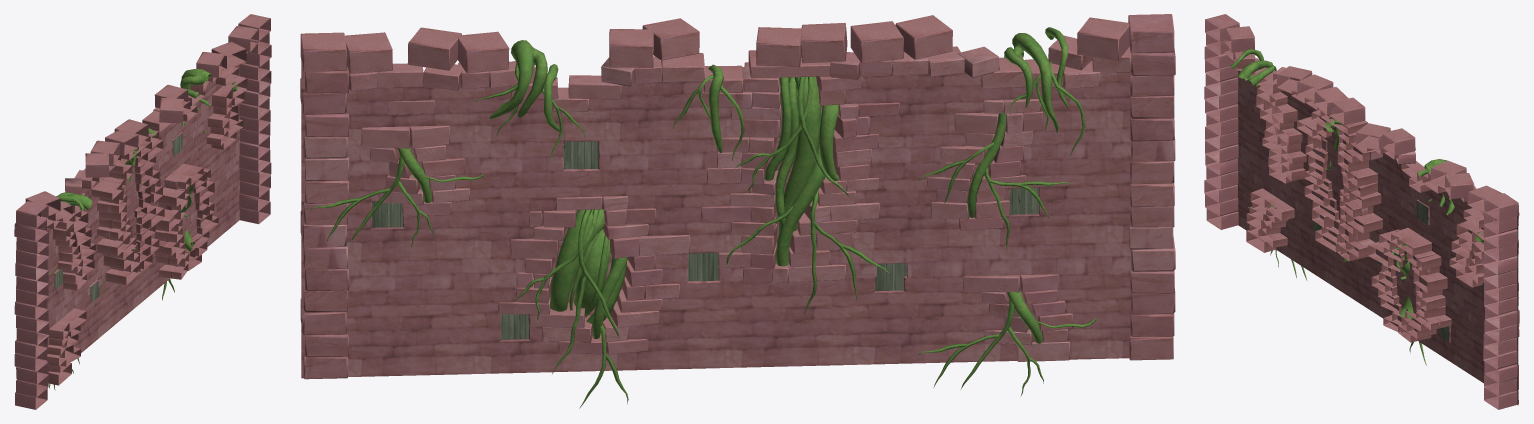
Rendered from SM_ENV_KNFRST_Wall_Bb.FBX.
The picture shows the model from 3 angles, left to right: view 1: azimuth 30°, elevation 25°; view 2: azimuth 150°, elevation 25°; view 3: azimuth 270°, elevation 25°; orthographic projection. The views are drawn at different scales.
Visible parts, largest first — view 1: SM_ENV_KNFRST_Wall_Bb; view 2: SM_ENV_KNFRST_Wall_Bb; view 3: SM_ENV_KNFRST_Wall_Bb.
Boxes of the visible parts, x1=… form: SM_ENV_KNFRST_Wall_Bb: x1=14, y1=14, x2=271, y2=409; SM_ENV_KNFRST_Wall_Bb: x1=300, y1=14, x2=1175, y2=408; SM_ENV_KNFRST_Wall_Bb: x1=1204, y1=14, x2=1519, y2=409.
Bounding box in the file's own units: 4555 × 2436 × 3101.
